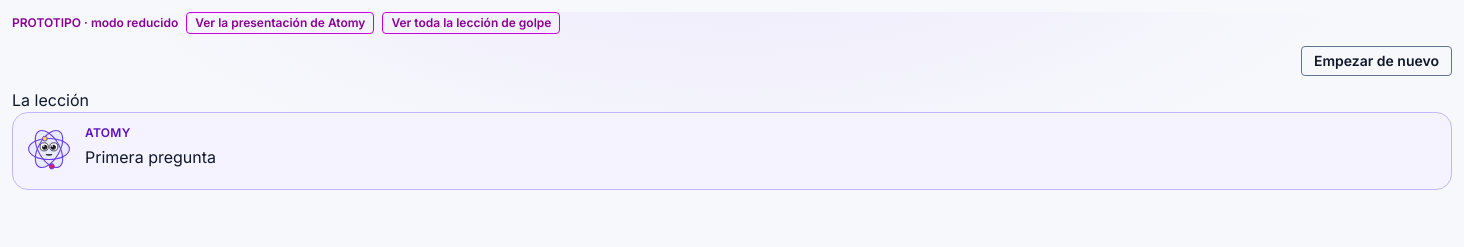
Test: AtomyLessonGate › replays the presentation from the lesson
Click the button "Ver la presentación de Atomy": point(280, 23) [186,12,374,34]
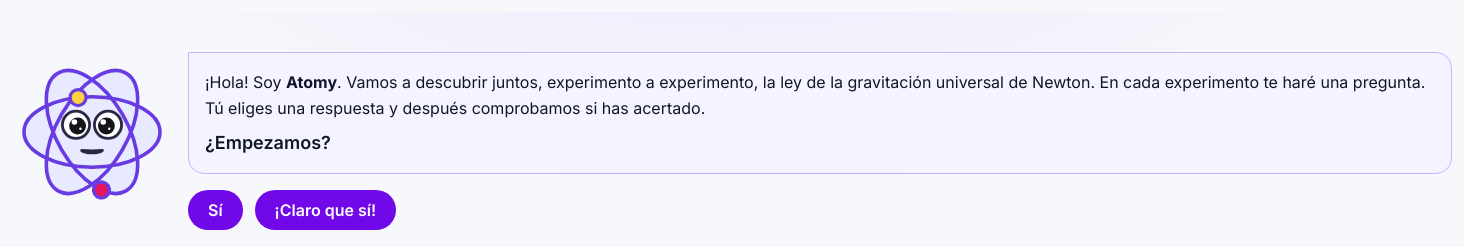
Expected: the element named "Atomy se presenta" is shown
